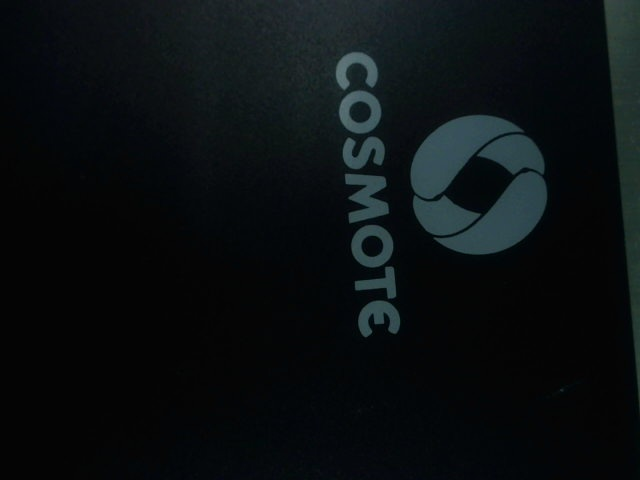AU_COSMOTE: (314, 43, 561, 349)
